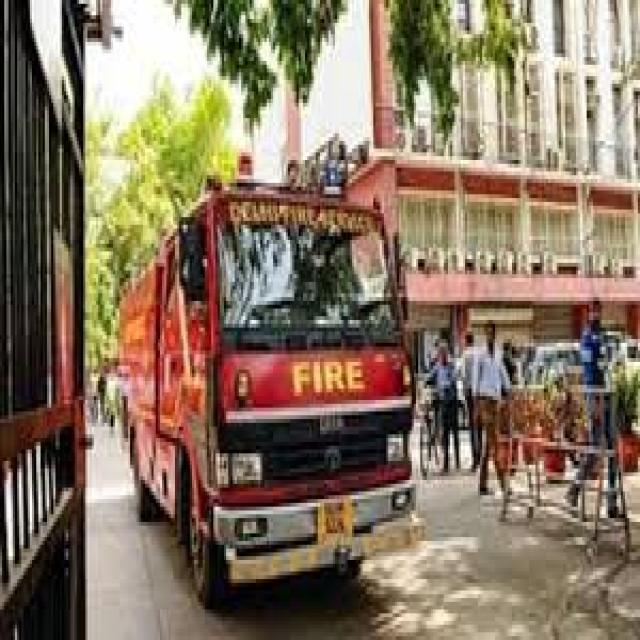Fire_brigade: (92, 144, 420, 628)
